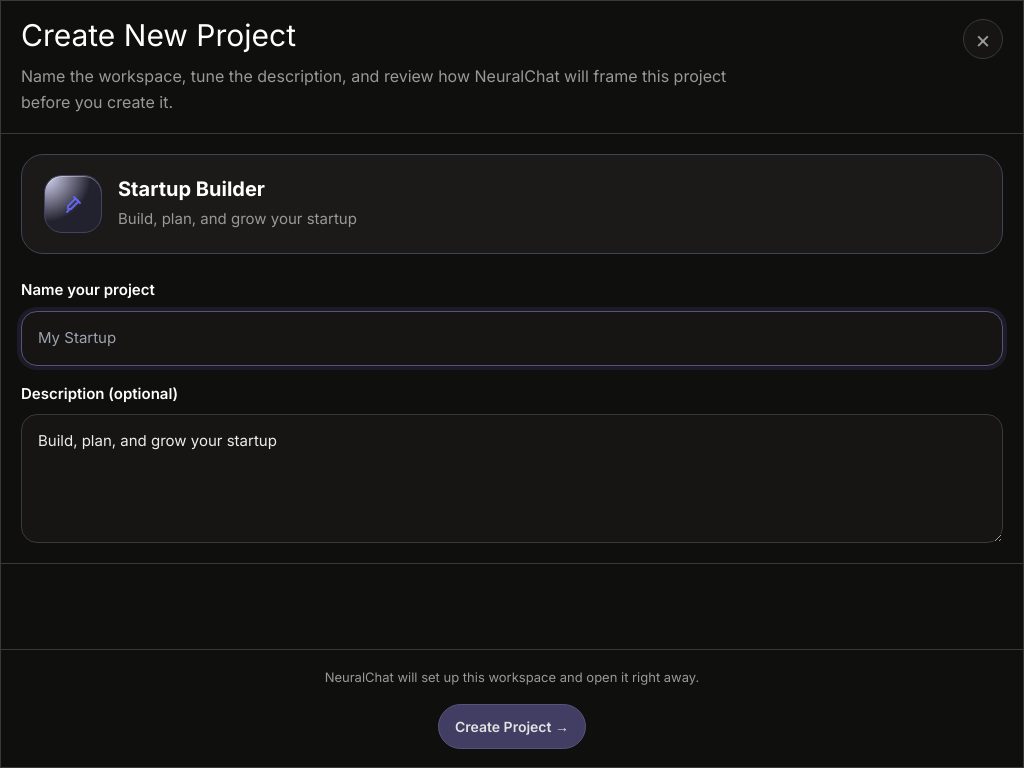
Scenario: CreateProjectModal › shows a calm fallback error when a fresh auth token still cannot be resolved
Type "ChatAssist AI" into the field labelled "Name your project" at (512, 338), box [21,311,1003,366]
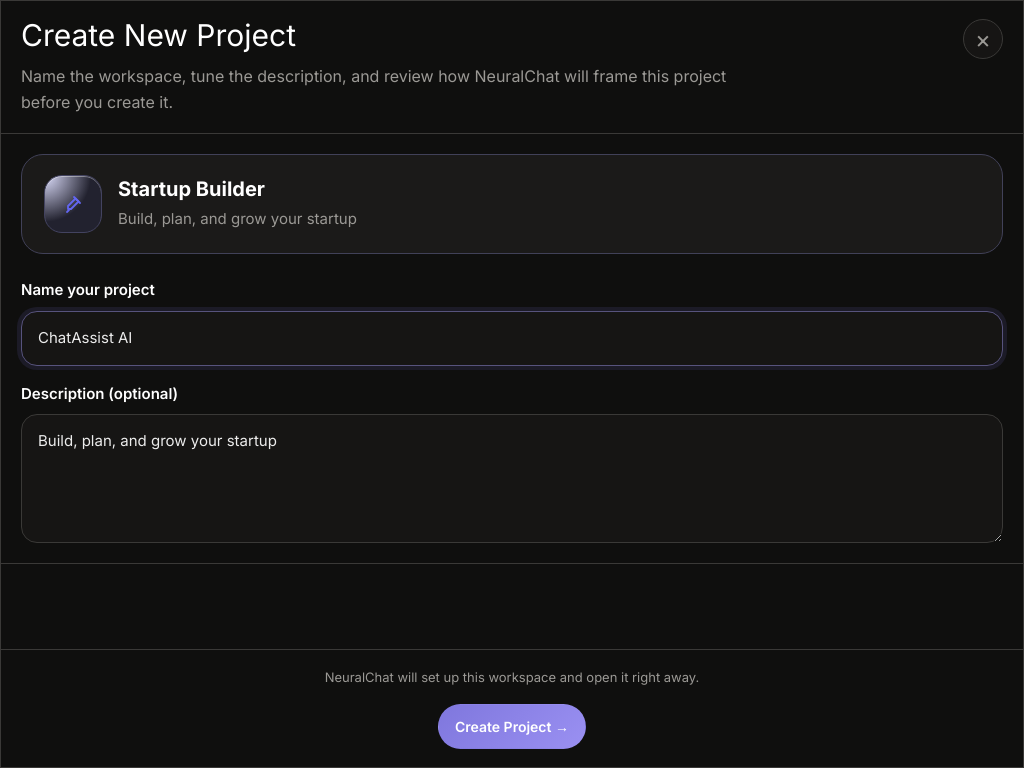
Click the button "Create Project →" at (512, 726), box [438,704,586,749]
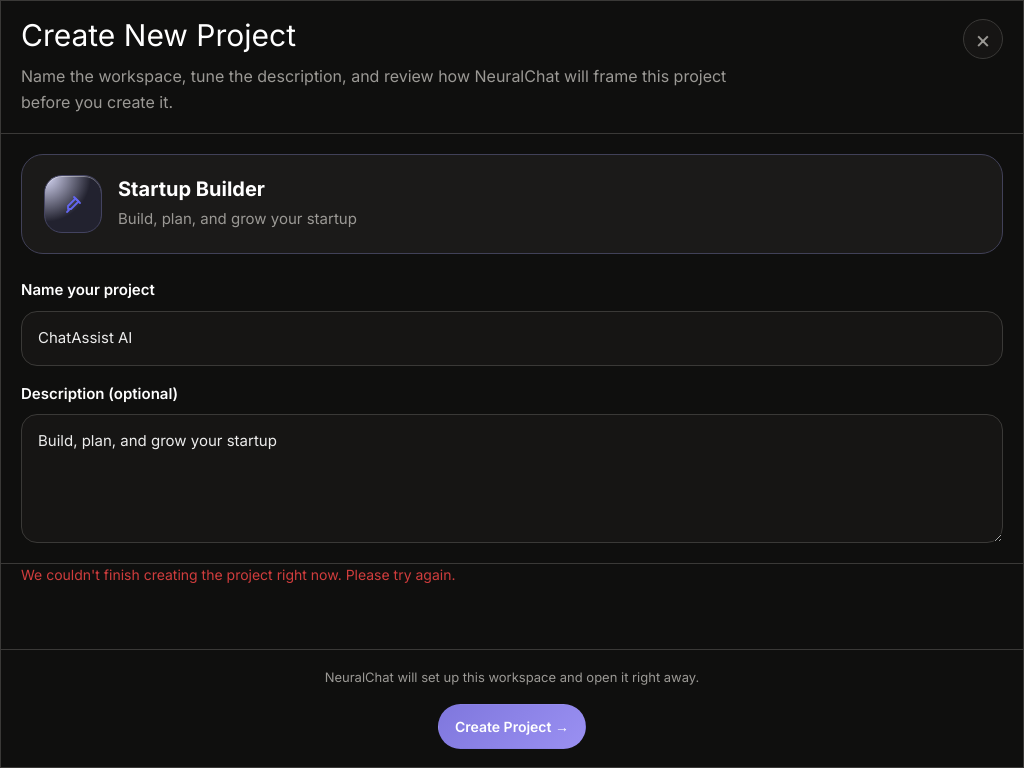
Result: the text "We couldn't finish creating the project right now. Please try again." is shown at [21,566,456,583]
